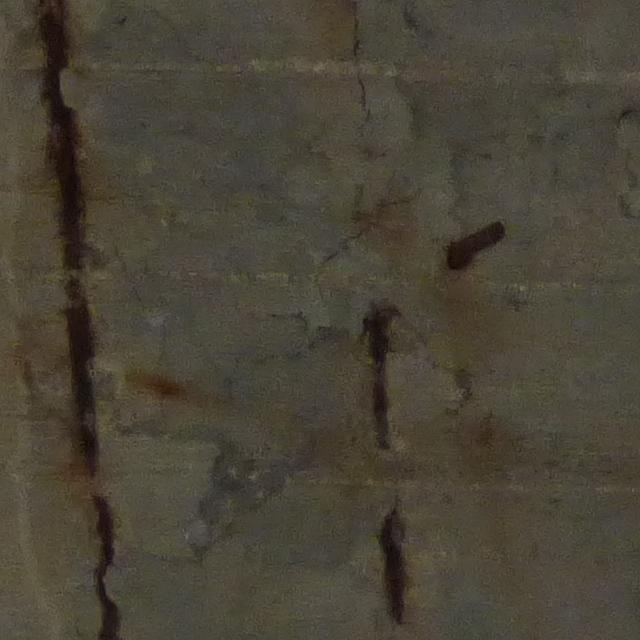Rust: (32, 4, 99, 477), (361, 303, 403, 449), (88, 495, 126, 640), (378, 507, 410, 626)
